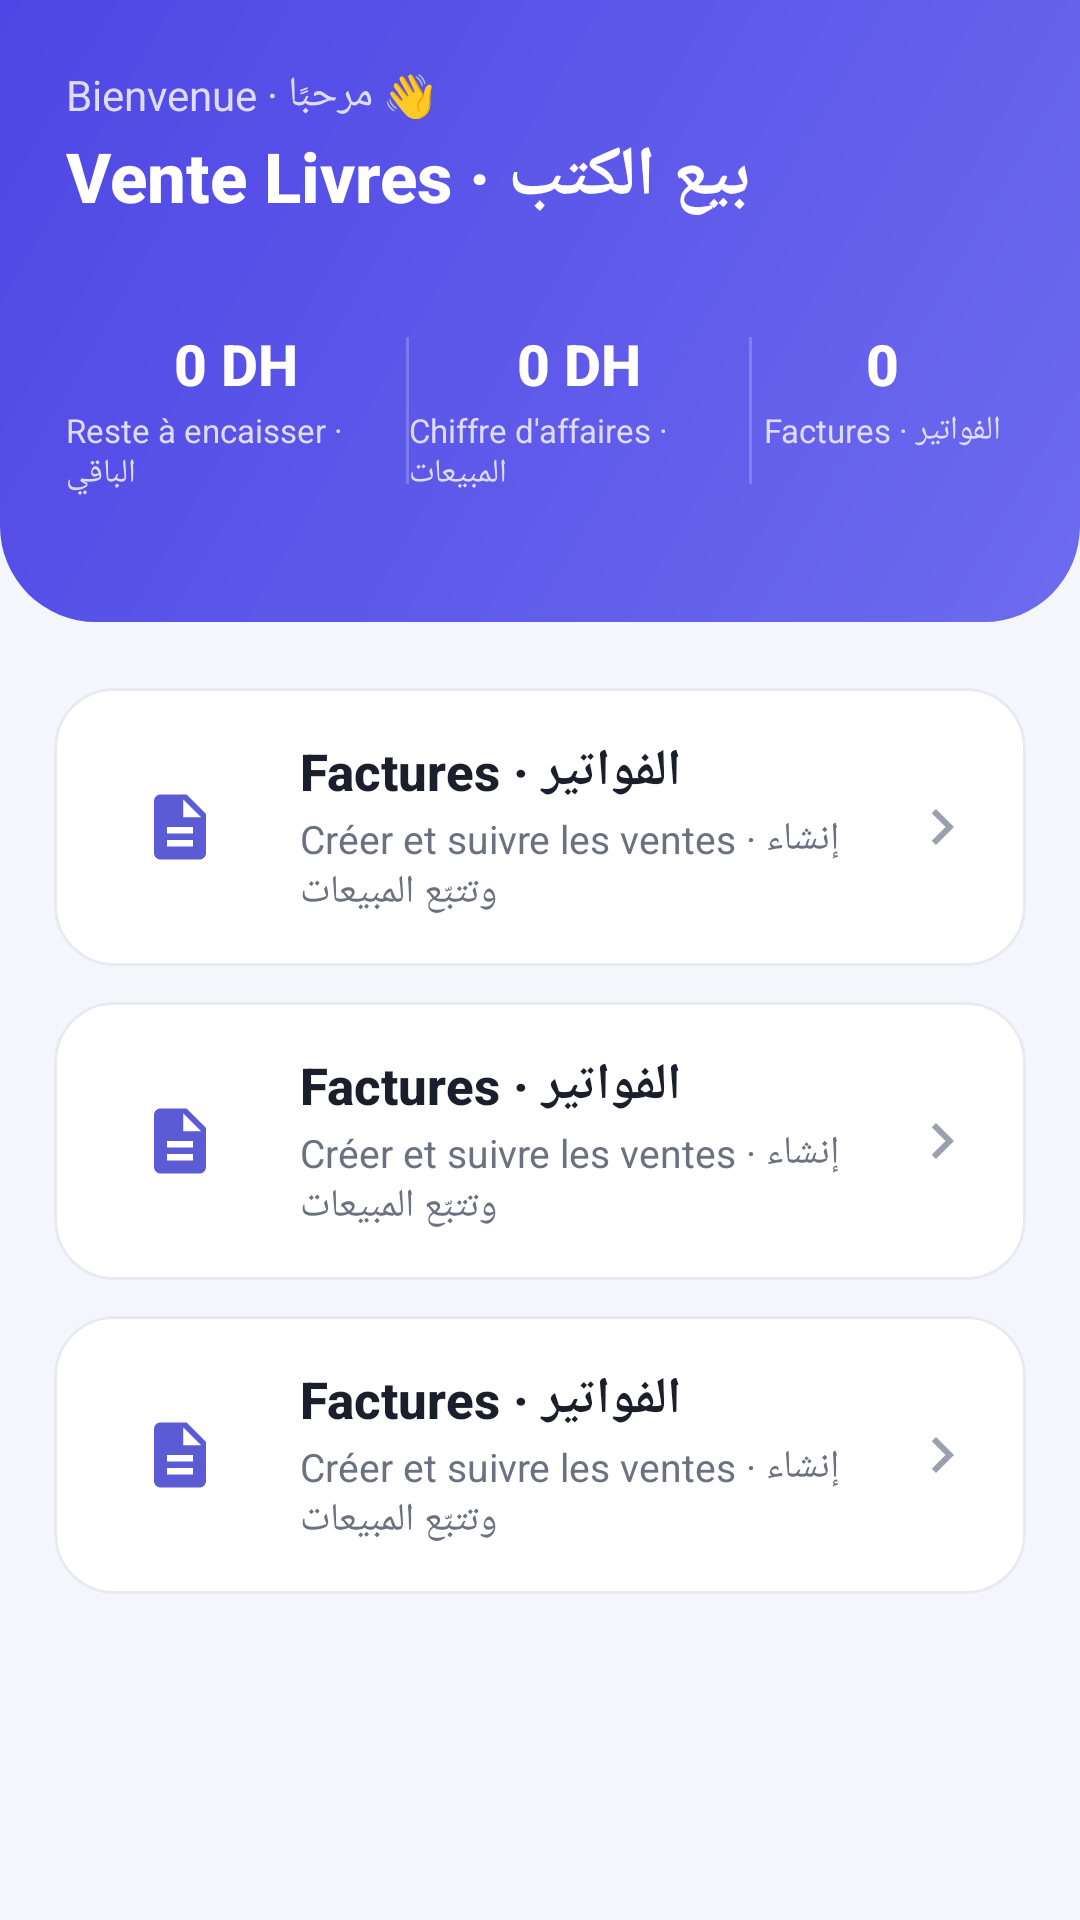

Icon click points for this 1080px x 1920px phone screenshot, format (x,y):
chevron: (943,827), (943,1141), (943,1455)
invoice: (180,827), (180,1141), (180,1455)
